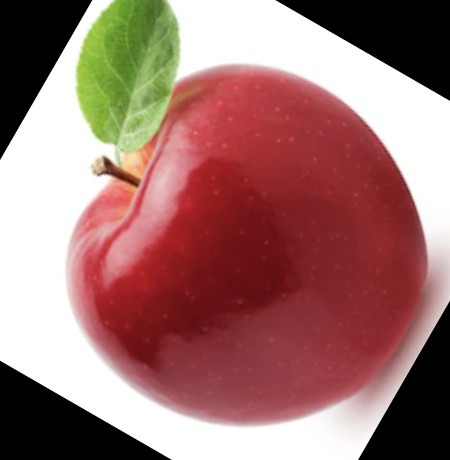fresh_apple: (63, 66, 429, 427)
